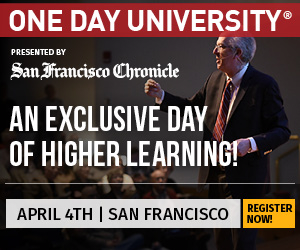fake_button: (242, 195, 298, 234)
